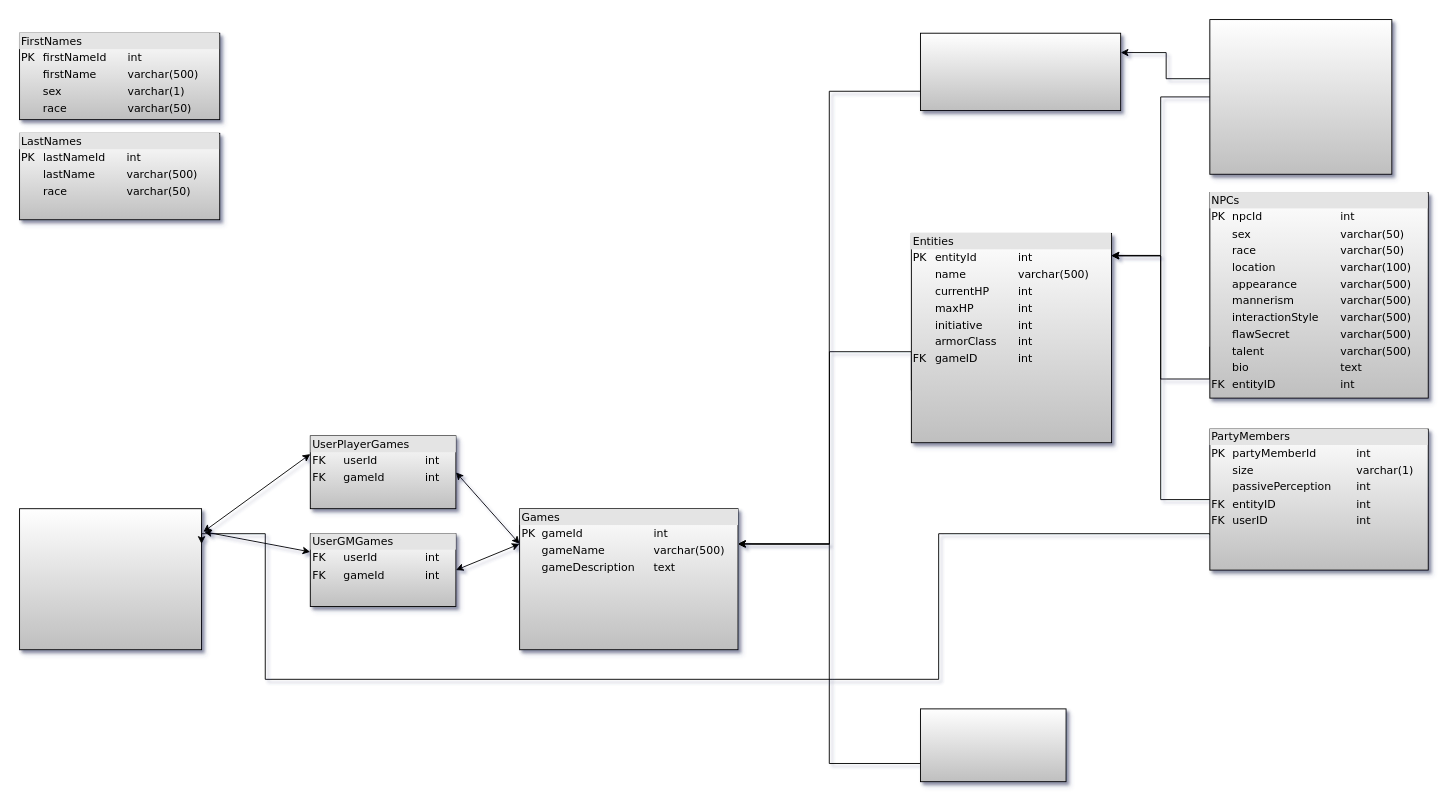
This 1455x810 diagram has some shape labels left out. Each missing label, with the centre of its shape:
"Encounters PK encounterId int name varchar(100) FK gameID int" belongs at [1021,73].
"GamePages PK pageID int pageURL varchar(500) FK gameID int" belongs at [994,746].
"Monsters PK monsterId int isFriendly tinyint FK encounterID int FK entityID int" belongs at [1301,98].
"Users PK userId int userName varchar(50) password varbinary(256)" belongs at [111,580].
